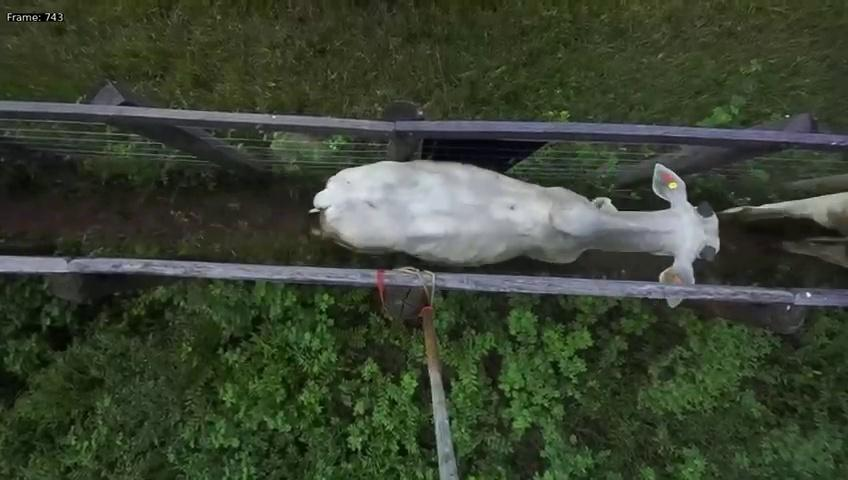cattle: (305, 132, 723, 282)
